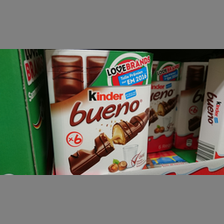chocolate: (45, 49, 152, 175), (147, 57, 182, 152)
